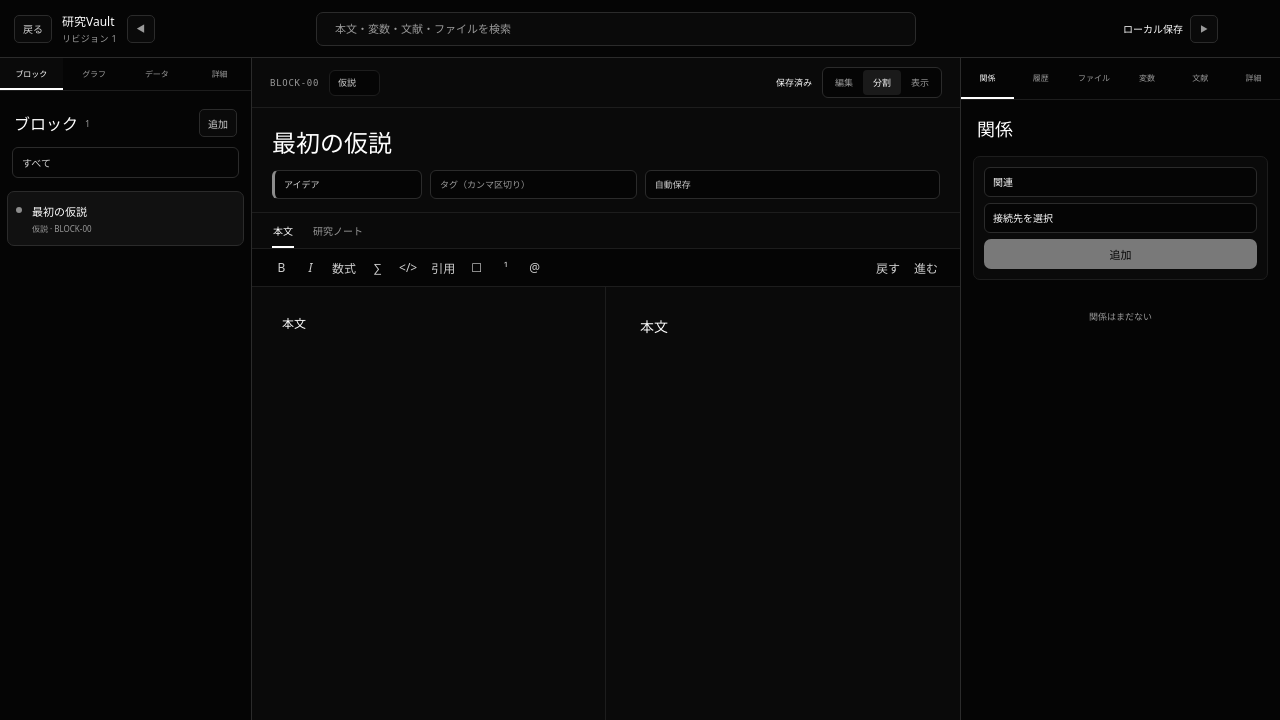
Test: Workspace panels and block menu › collapses either side panel so the main stage receives the freed width
Expected: the button "最初の仮説 仮説 · BLOCK-00" is shown, [7, 191, 244, 246]
Click the button named "左パネルを隠す": coordinates (141, 28) [127, 14, 155, 42]
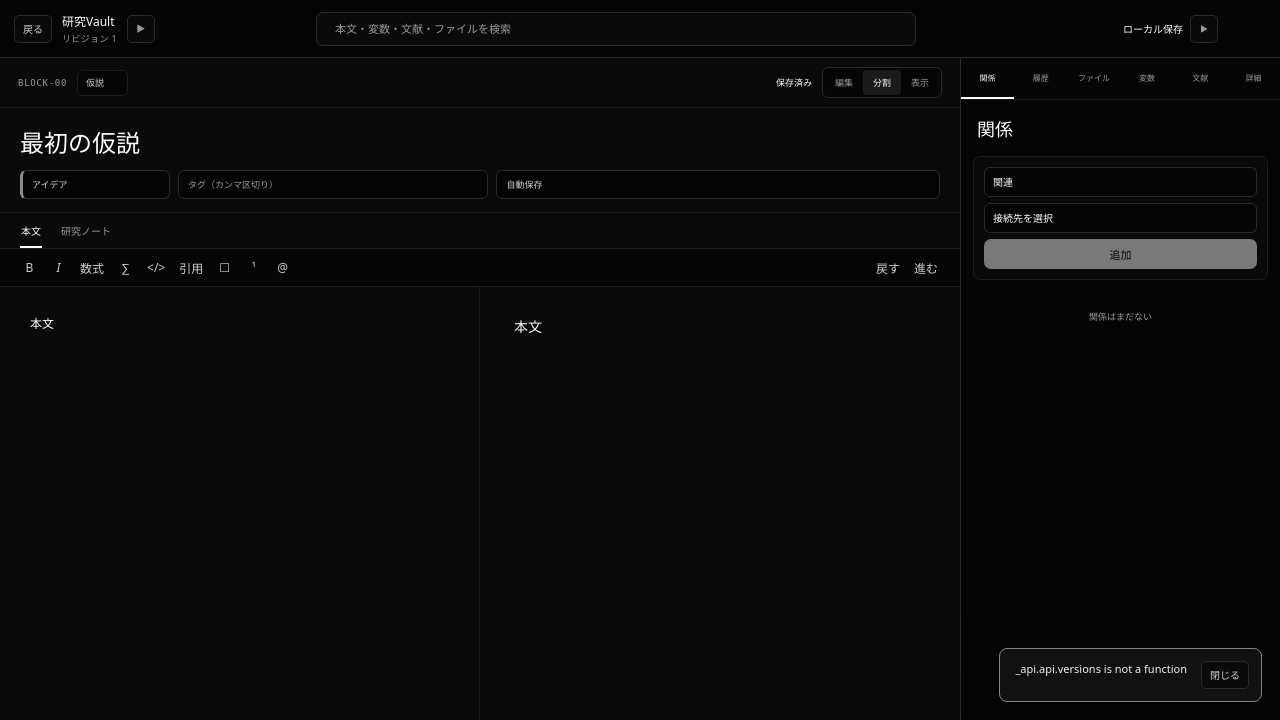
Now the button named "左パネルを表示" is shown, box [127, 14, 155, 42]
Click the button named "右パネルを隠す": coordinates (1204, 28) [1190, 14, 1218, 42]
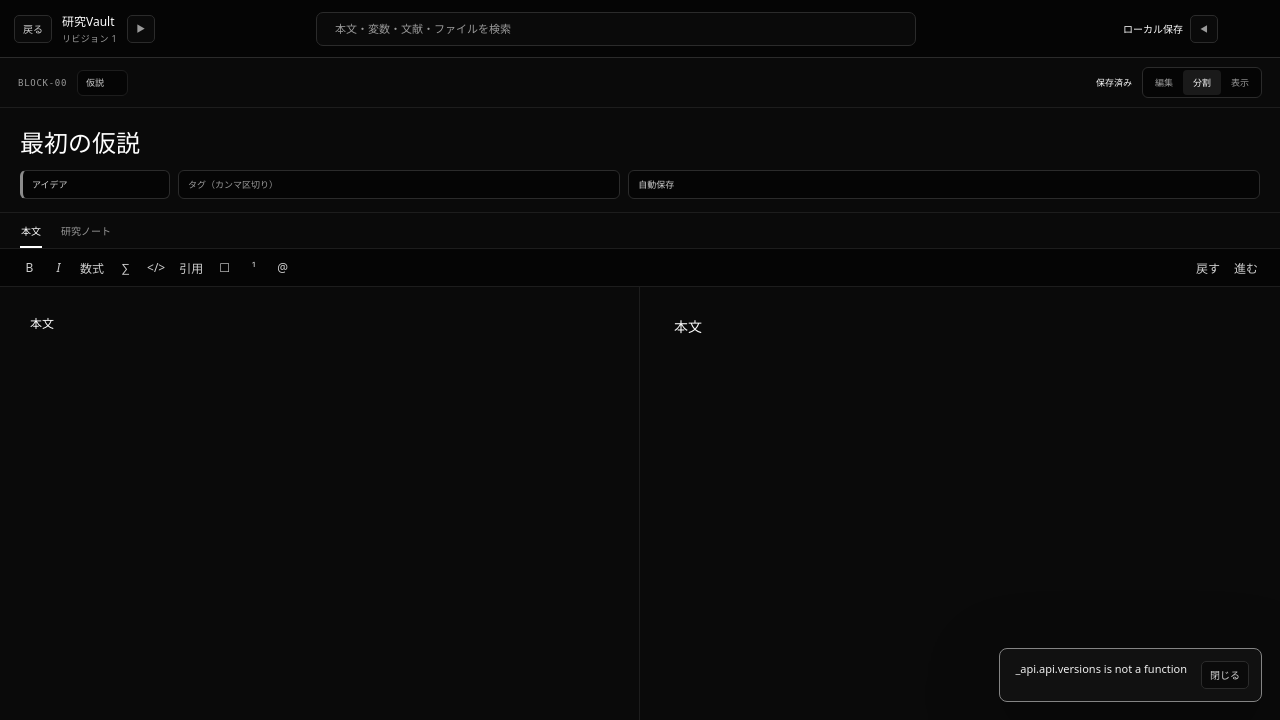
Now the button named "右パネルを表示" is shown, box [1190, 14, 1218, 42]
